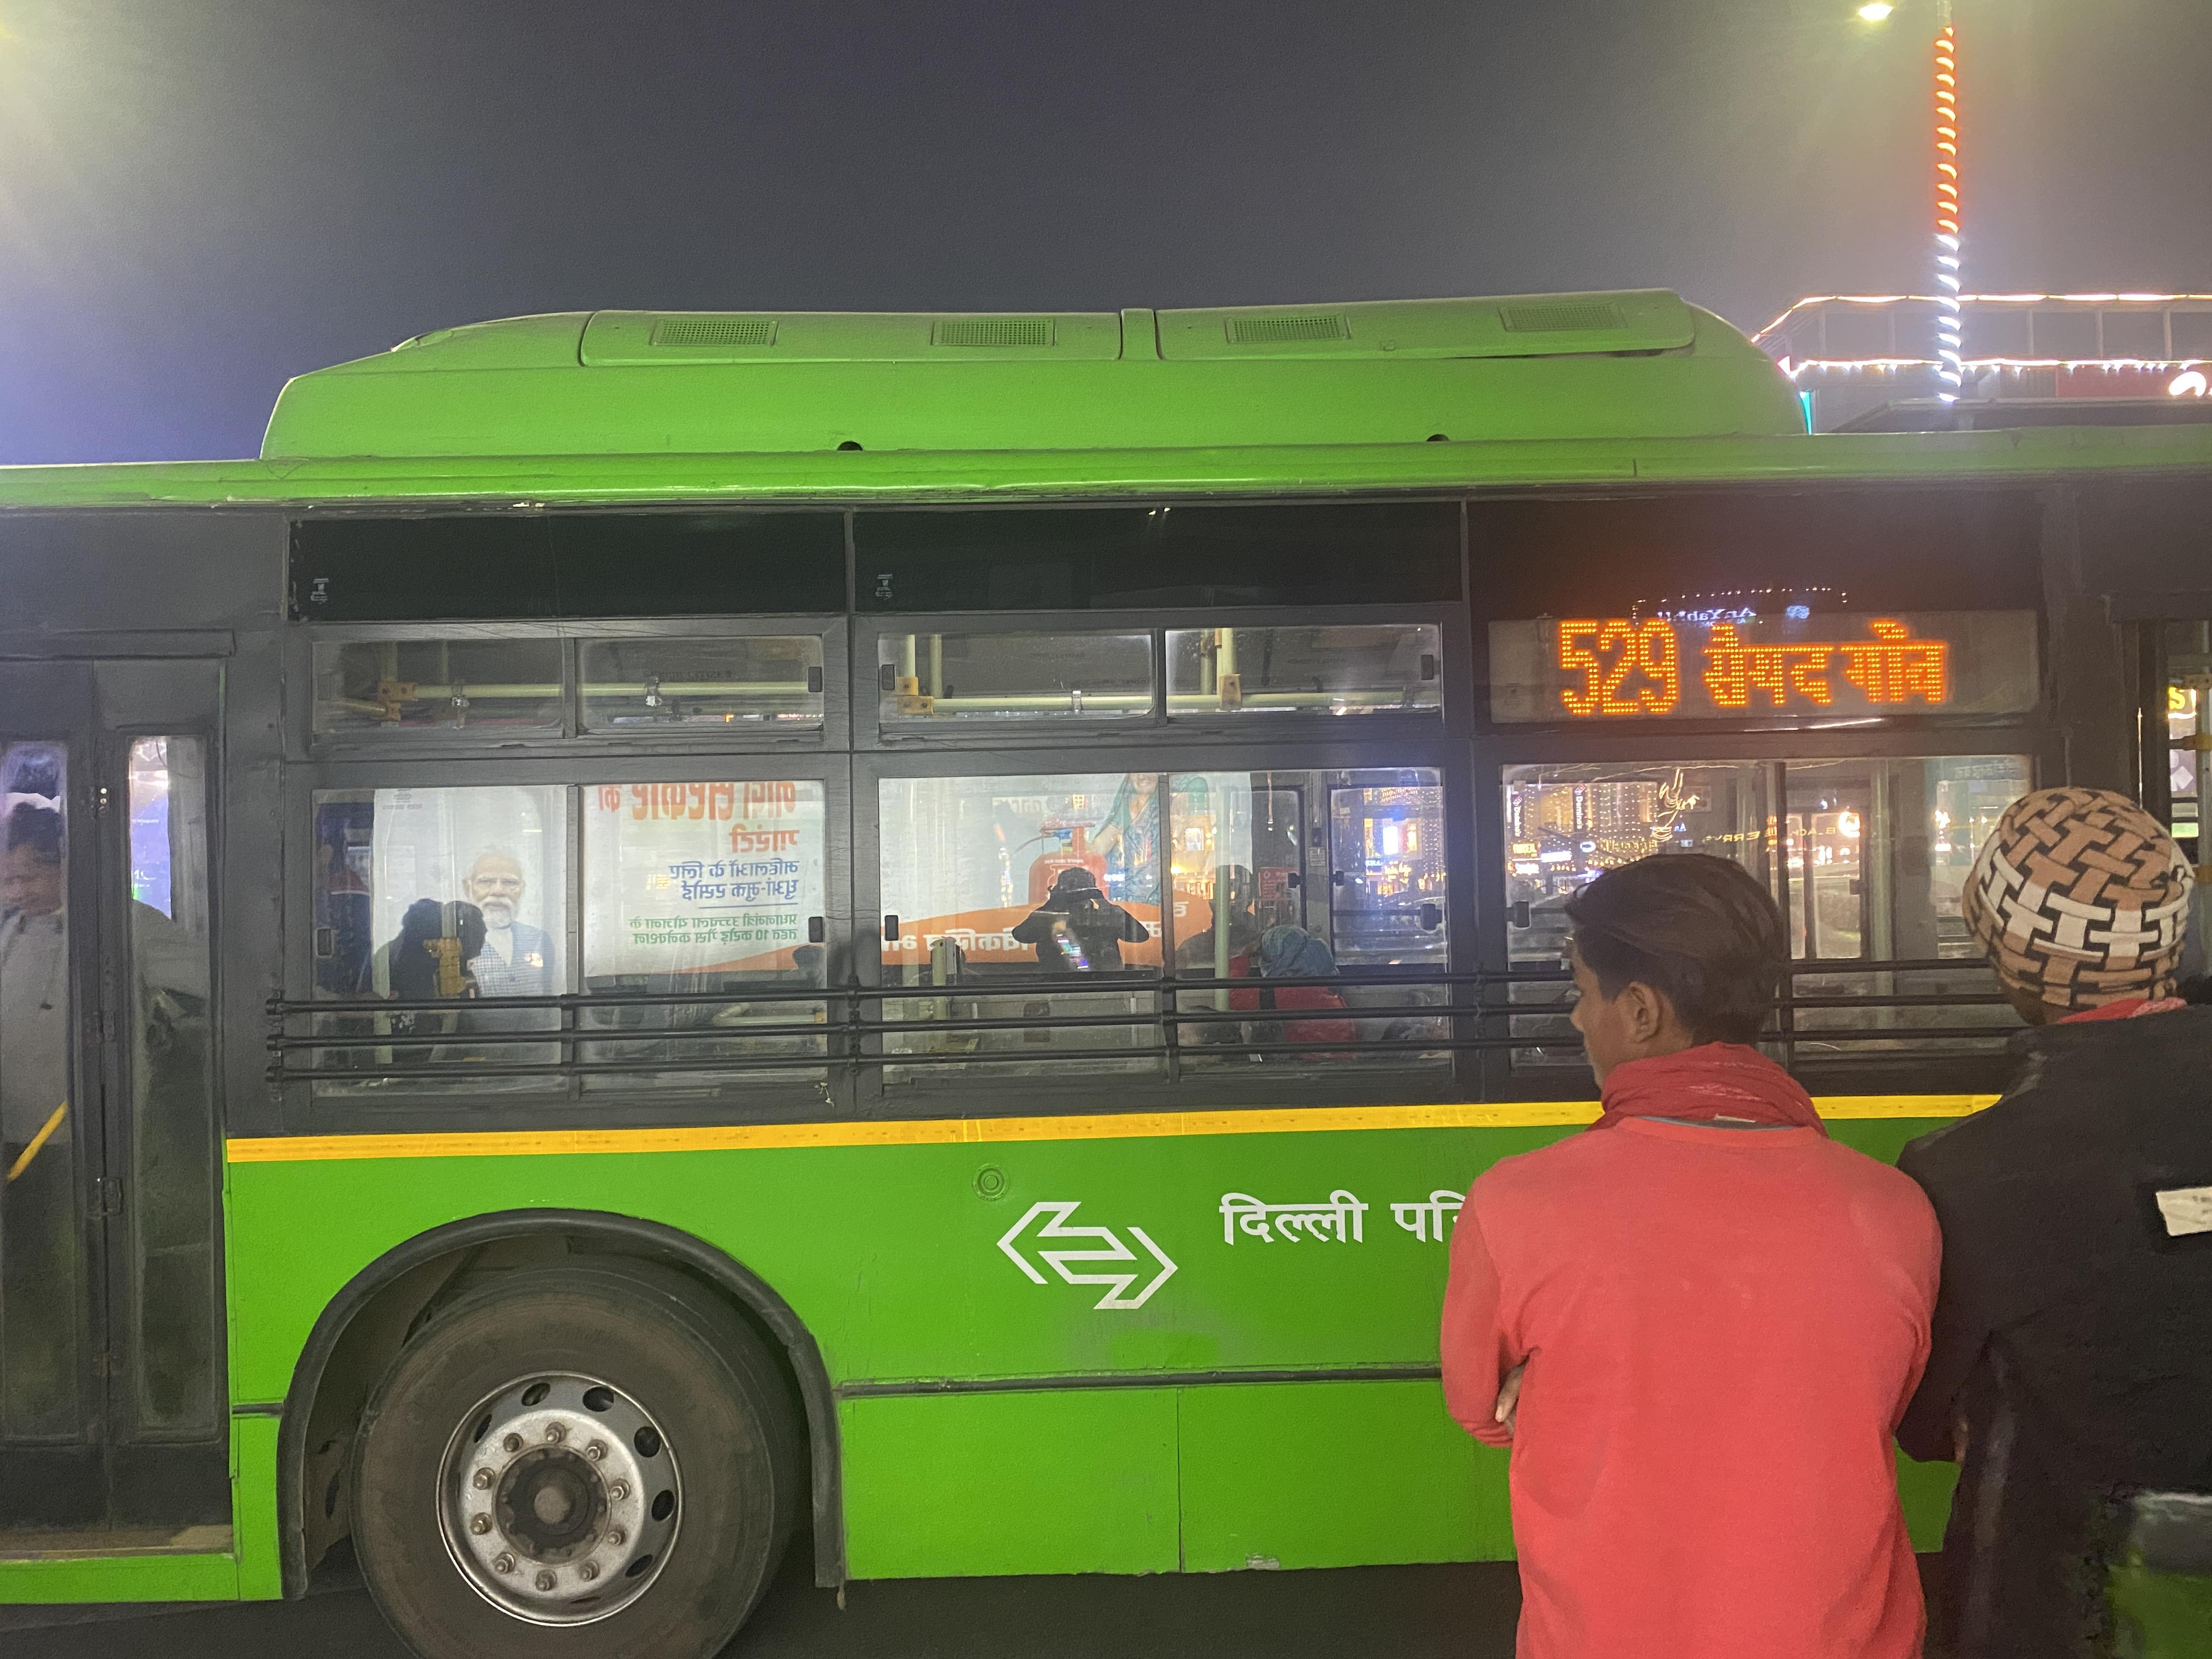Bus: (0, 286, 2212, 1659)
Display Board: (1437, 582, 2095, 756)
